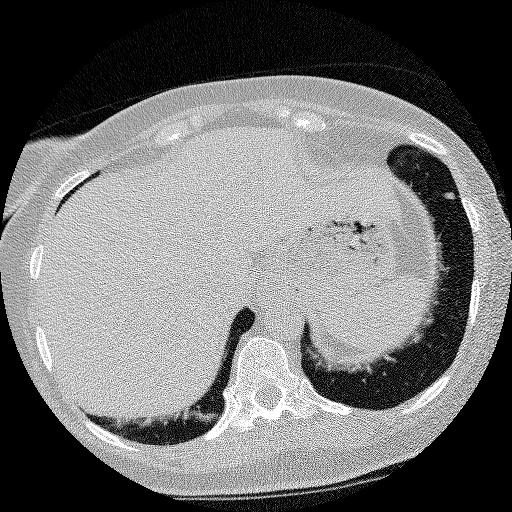nodule: (444, 189, 457, 202)
